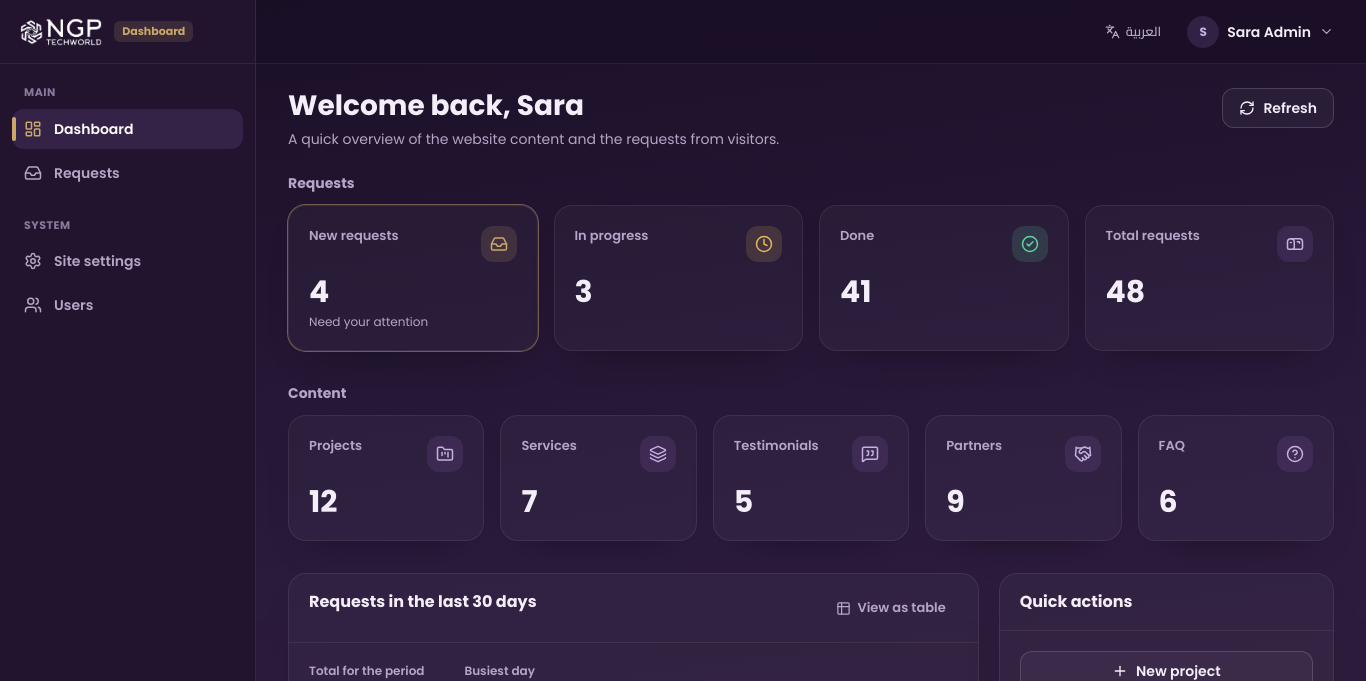
Test: dashboard, requests, settings and users inside the app shell › the "New requests" card opens the inbox filtered by status, and a recent request opens its detail page
This screenshot has width=1366, height=681.
Click the link "New requests 4 Need your attention" at (413, 278), box x1=288 y1=205 x2=538 y2=351
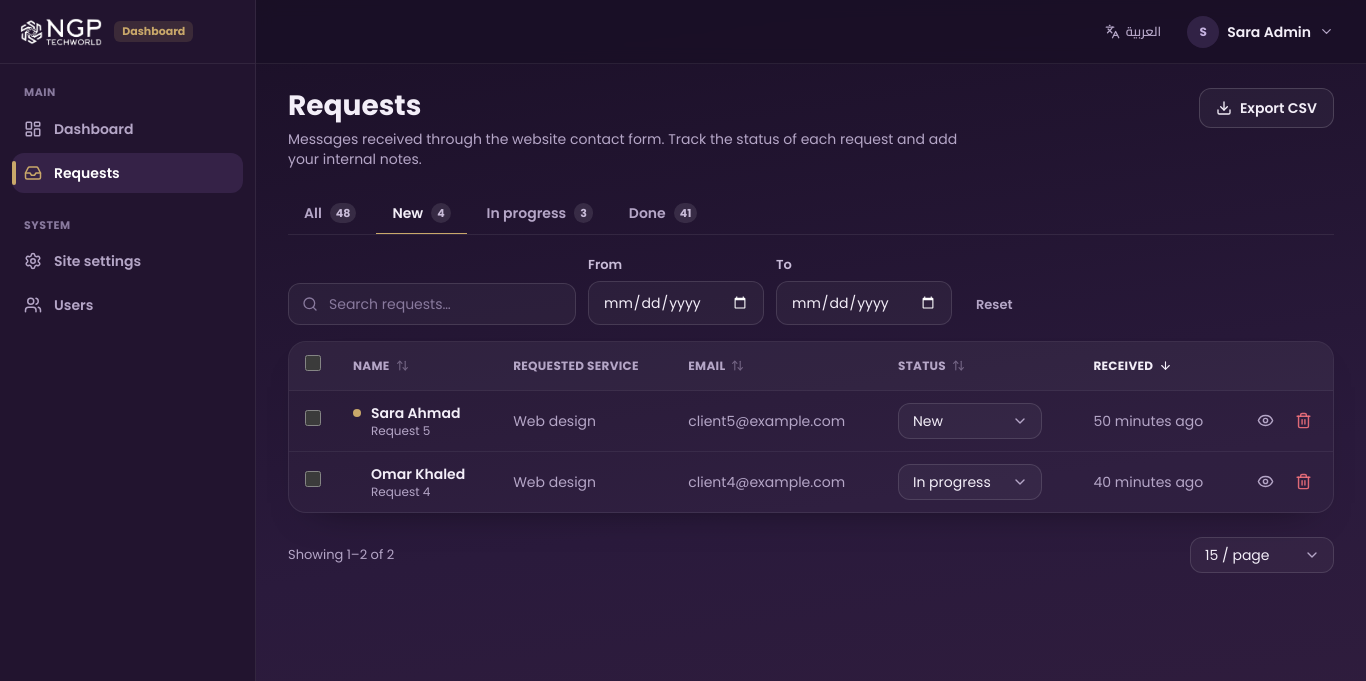
Expected: the link "Requests" is marked as current, x1=12 y1=152 x2=243 y2=192
Click the link "Omar Khaled" at (418, 474), box x1=371 y1=464 x2=465 y2=484
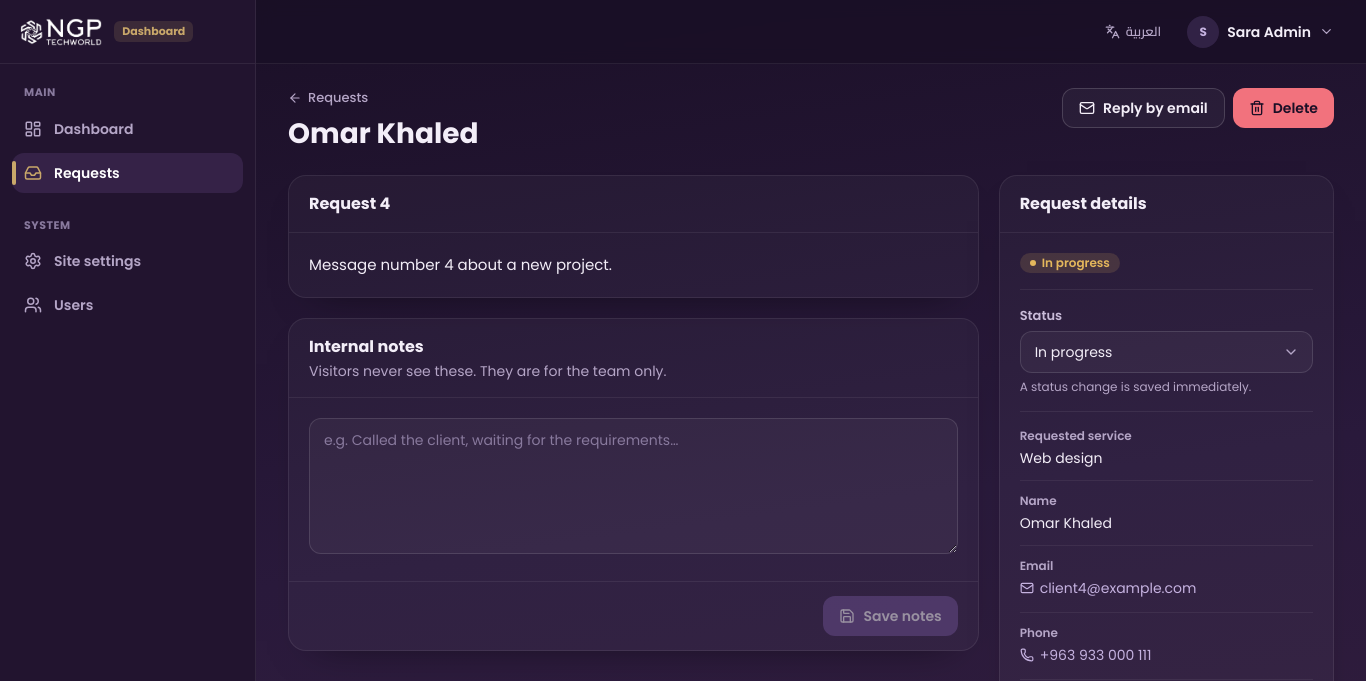
Expected: the heading "Omar Khaled" is shown, x1=288 y1=116 x2=478 y2=151
Expected: the dropdown labelled "Status" shows "In progress", x1=1020 y1=331 x2=1313 y2=373
